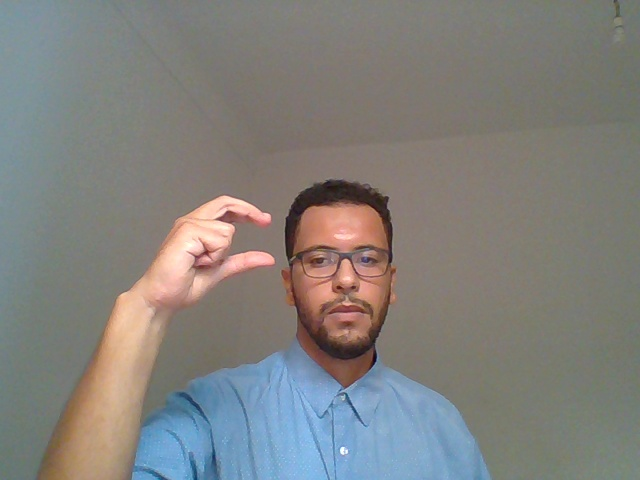no: (63, 161, 274, 456)
